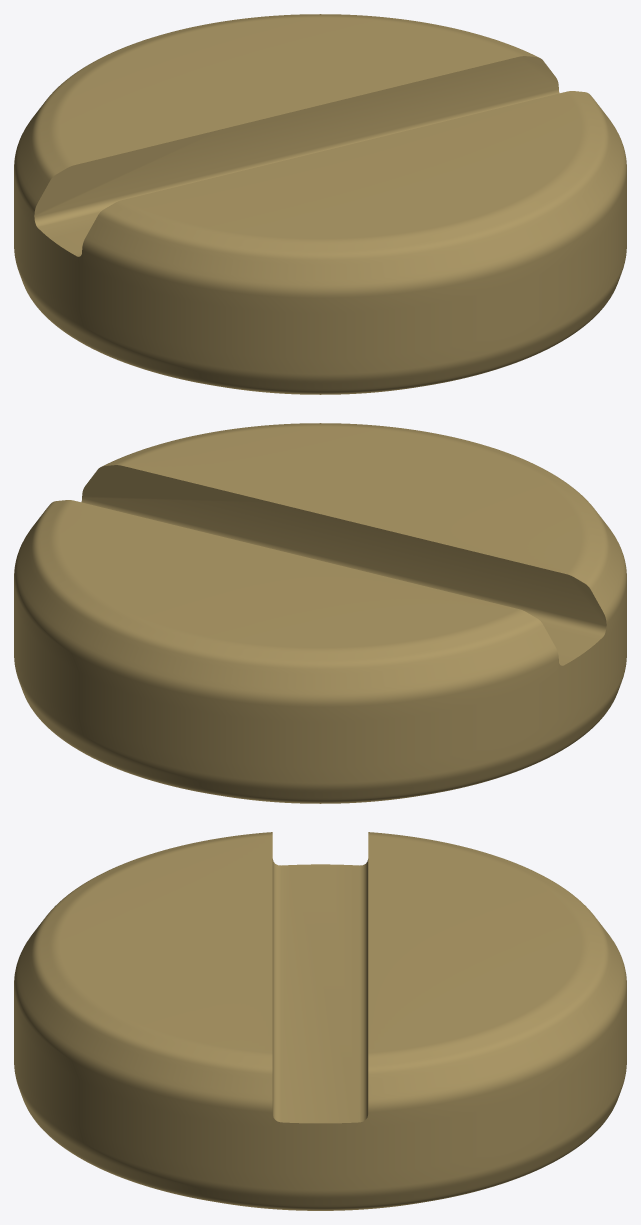
Rendered from child-candidate.glb.
The picture shows the model from 3 angles, top to bottom: view 1: azimuth 30°, elevation 25°; view 2: azimuth 150°, elevation 25°; view 3: azimuth 270°, elevation 25°; orthographic projection.
Parts seen in each view (by area): view 1: VISIBLE_WARM_ROUND_HEAD_FINITE_STRAIGHT_SLOT; view 2: VISIBLE_WARM_ROUND_HEAD_FINITE_STRAIGHT_SLOT; view 3: VISIBLE_WARM_ROUND_HEAD_FINITE_STRAIGHT_SLOT.
Boxes of the visible parts, x1=… form: VISIBLE_WARM_ROUND_HEAD_FINITE_STRAIGHT_SLOT: x1=14, y1=14, x2=626, y2=394; VISIBLE_WARM_ROUND_HEAD_FINITE_STRAIGHT_SLOT: x1=14, y1=423, x2=626, y2=803; VISIBLE_WARM_ROUND_HEAD_FINITE_STRAIGHT_SLOT: x1=14, y1=832, x2=626, y2=1210.
Bounding box in the file's own units: 0.009 × 0.0025 × 0.009.
